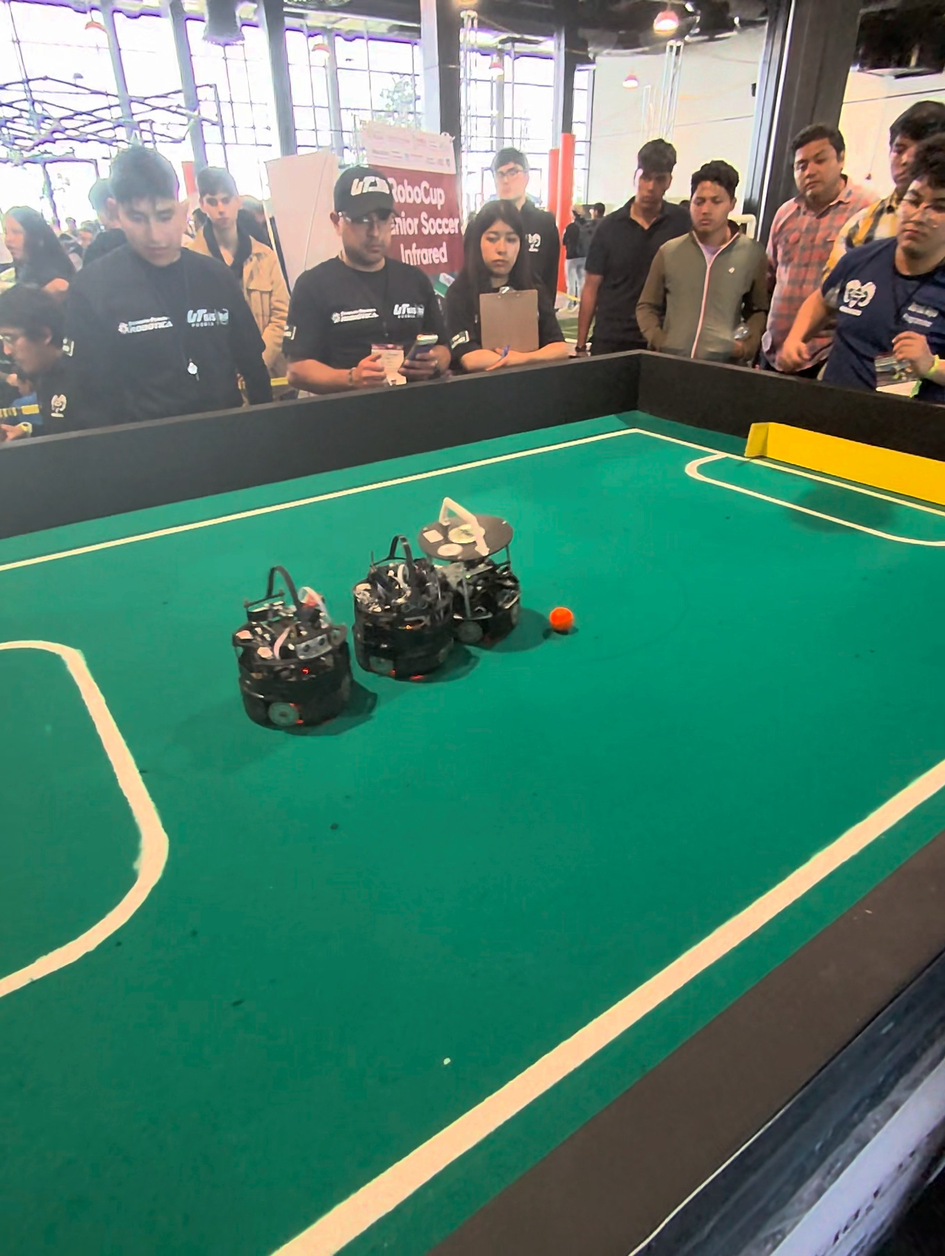Robot: (385, 490, 529, 663), (230, 563, 354, 738), (354, 537, 461, 700)
pelota: (551, 609, 576, 634)
